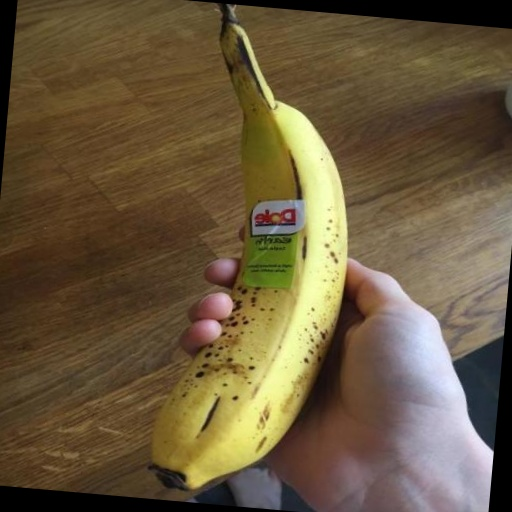fruit: (150, 3, 346, 489)
